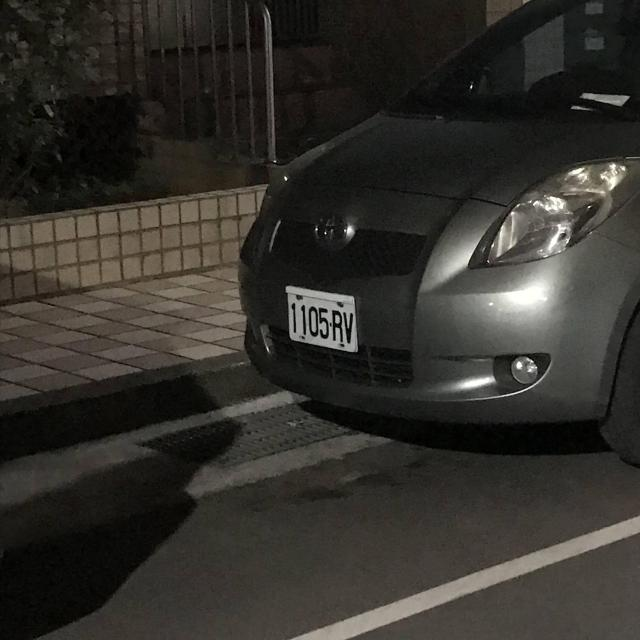W: (282, 282, 362, 359)
